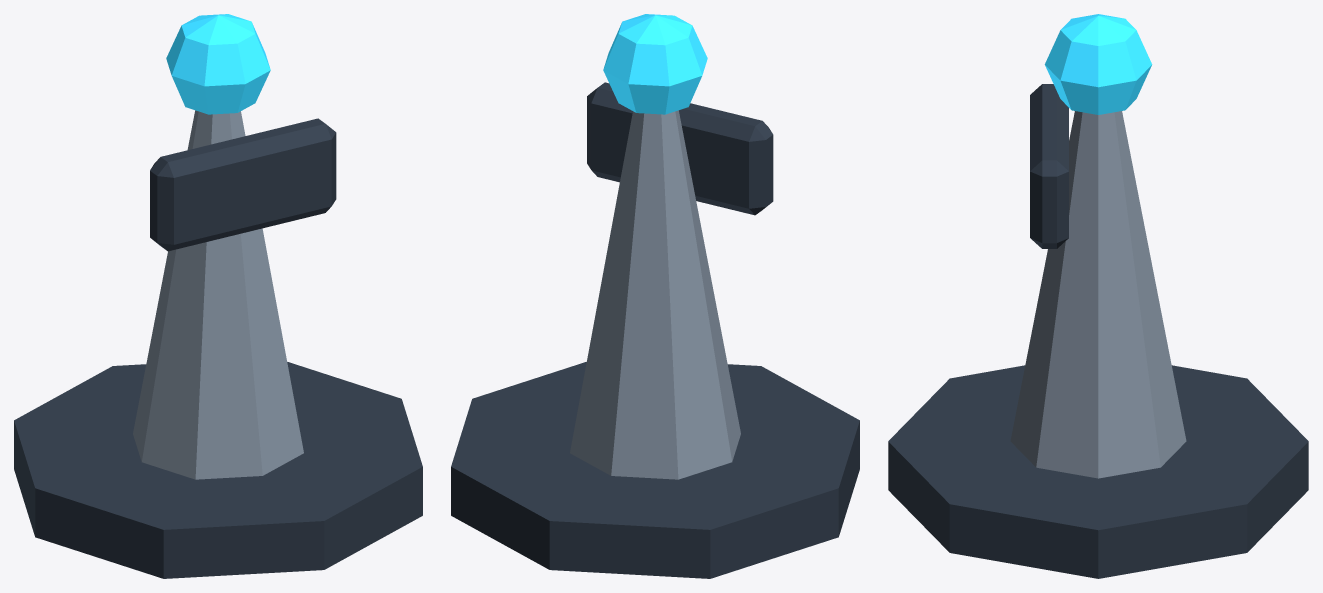
File: relay-tower.glb
The picture shows the model from 3 angles, left to right: view 1: azimuth 30°, elevation 25°; view 2: azimuth 150°, elevation 25°; view 3: azimuth 270°, elevation 25°; orthographic projection.
Parts seen in each view (by area): view 1: Tabletop plinth, Relay mast, Relay dish, Relay signal; view 2: Tabletop plinth, Relay mast, Relay dish, Relay signal; view 3: Tabletop plinth, Relay mast, Relay signal, Relay dish.
Boxes of the visible parts, x1,y1,x2,y2 form: Tabletop plinth: (14,362,422,578); Relay mast: (133,110,303,479); Relay dish: (150,118,336,251); Relay signal: (166,14,270,114); Tabletop plinth: (451,362,859,578); Relay mast: (570,110,740,479); Relay dish: (587,82,773,215); Relay signal: (603,14,707,114); Tabletop plinth: (888,365,1308,578); Relay mast: (1010,111,1186,478); Relay signal: (1044,14,1152,114); Relay dish: (1030,84,1068,248).
Size of the model in its own units: 0.86 by 1.07 by 0.86.
